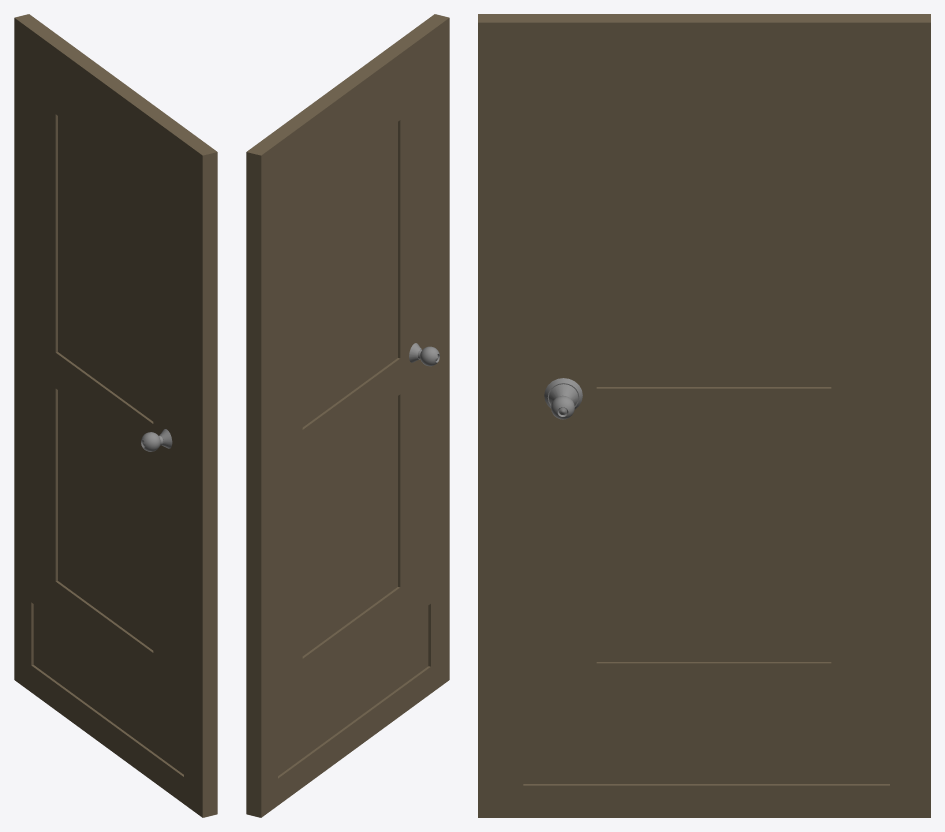
Rendered from door.fbx.
3 renders of one model, left to right at view 1: azimuth 30°, elevation 25°; view 2: azimuth 150°, elevation 25°; view 3: azimuth 270°, elevation 25°, orthographic. The views are drawn at different scales.
Visible parts, largest first — view 1: door_1, door_knob2; view 2: door_1, door_knob2; view 3: door_1, door_knob1.
Part boxes in pixels (x1,y1,x2,y2): door_1: (14, 14, 217, 817); door_knob2: (141, 429, 172, 451); door_1: (246, 14, 449, 817); door_knob2: (409, 343, 439, 366); door_1: (478, 14, 930, 817); door_knob1: (544, 378, 582, 419).
Bounding box in the file's own units: 0.3684 × 3.29 × 1.7.
